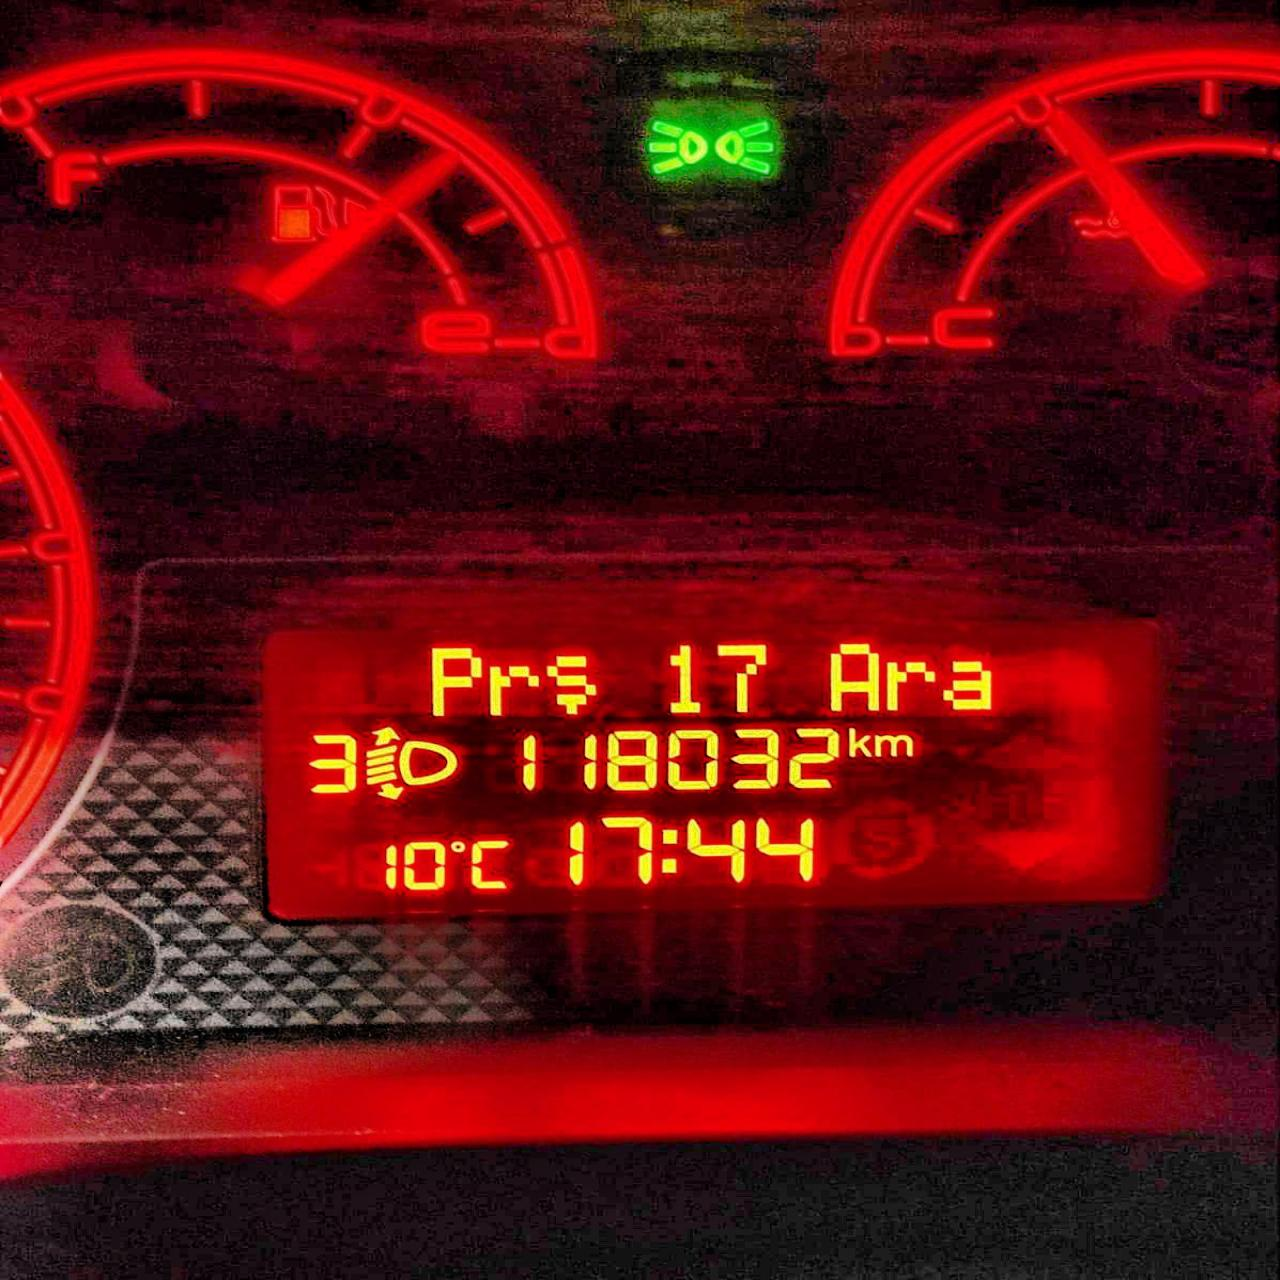0: (666, 726, 722, 792), (403, 839, 447, 892)
1: (666, 641, 706, 720), (512, 727, 545, 798), (563, 815, 588, 891), (578, 727, 599, 797), (381, 840, 400, 890)
2: (790, 723, 838, 794)
3: (304, 728, 360, 801), (730, 724, 778, 795)
4: (755, 813, 819, 884), (686, 815, 749, 883)
7: (713, 640, 772, 715), (600, 812, 652, 883)
8: (606, 727, 661, 790)
X: (825, 641, 883, 714), (545, 651, 606, 719), (427, 641, 479, 717), (488, 658, 542, 719), (941, 659, 993, 716), (883, 658, 934, 712), (469, 837, 512, 891), (873, 729, 915, 762), (655, 823, 679, 878), (846, 723, 870, 760)
odometer: (252, 615, 1178, 917)
